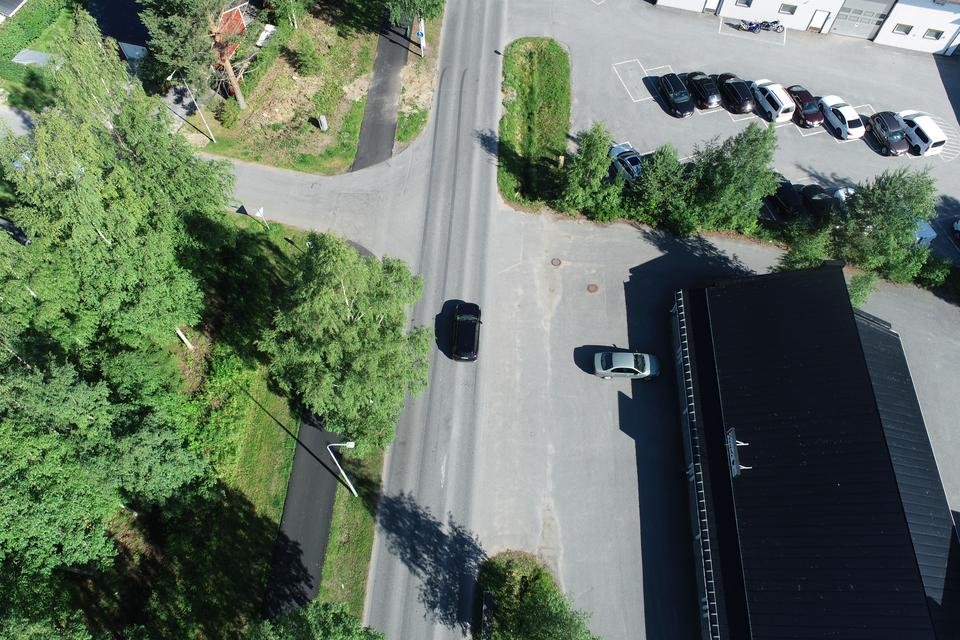intersection: (290, 137, 525, 282)
